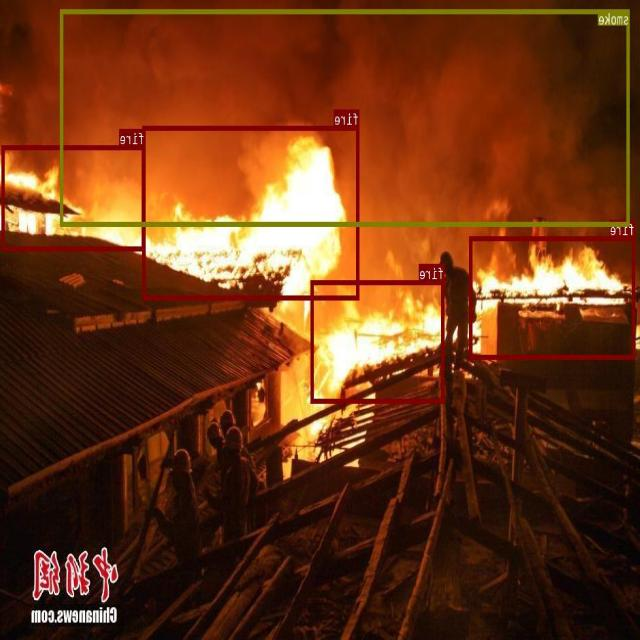fire: (143, 126, 360, 299), (470, 235, 636, 358), (312, 279, 445, 402), (2, 144, 146, 250)
smoke: (61, 9, 630, 226)
